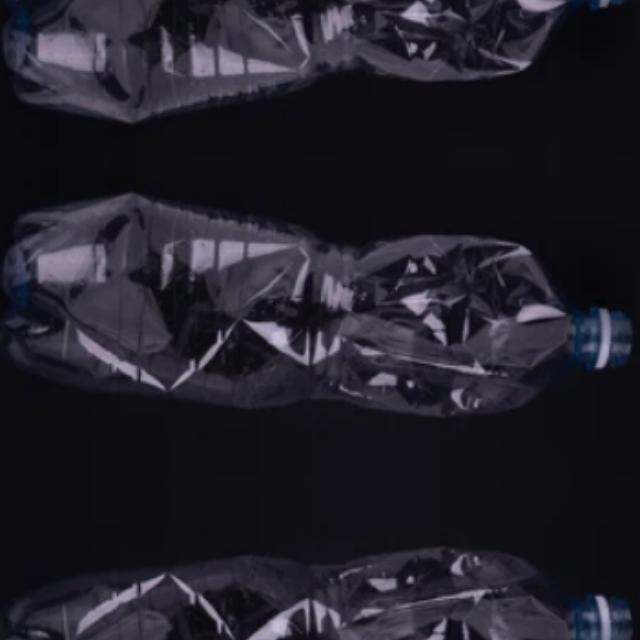Plastic: (1, 197, 640, 458), (0, 505, 639, 640), (0, 0, 639, 117)
